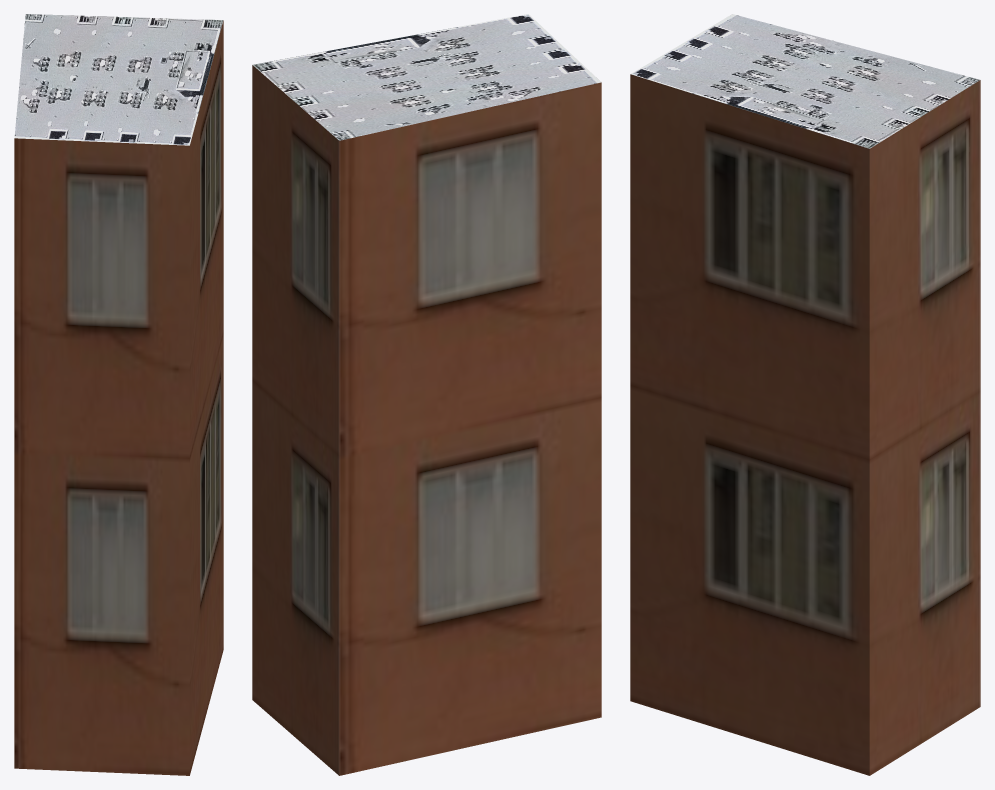
File: ResTex__4551.fbx
3 renders of one model, left to right at view 1: azimuth 30°, elevation 25°; view 2: azimuth 150°, elevation 25°; view 3: azimuth 270°, elevation 25°, orthographic.
Parts seen in each view (by area): view 1: CityEngineMaterial_20_m, CityEngineMaterial_4_m; view 2: CityEngineMaterial_20_m, CityEngineMaterial_4_m; view 3: CityEngineMaterial_20_m, CityEngineMaterial_4_m.
Part boxes in pixels (x1,y1,x2,y2): CityEngineMaterial_20_m: (14, 20, 223, 775); CityEngineMaterial_4_m: (14, 14, 223, 145); CityEngineMaterial_20_m: (252, 65, 601, 775); CityEngineMaterial_4_m: (252, 14, 601, 140); CityEngineMaterial_20_m: (630, 74, 980, 775); CityEngineMaterial_4_m: (630, 14, 979, 148).
Bounding box in the file's own units: 2.77 × 6 × 3.04.
2 materials, 2 textured.
